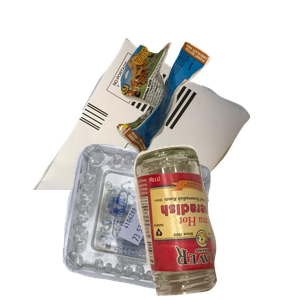glass: (131, 142, 300, 300)
paper: (31, 35, 271, 215)
plastic: (60, 141, 263, 300)
trash: (114, 39, 300, 188)
